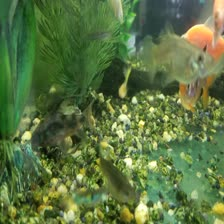Guppy: (135, 35, 212, 82), (99, 157, 141, 201), (68, 186, 113, 202)
Kiros: (29, 104, 92, 153)
